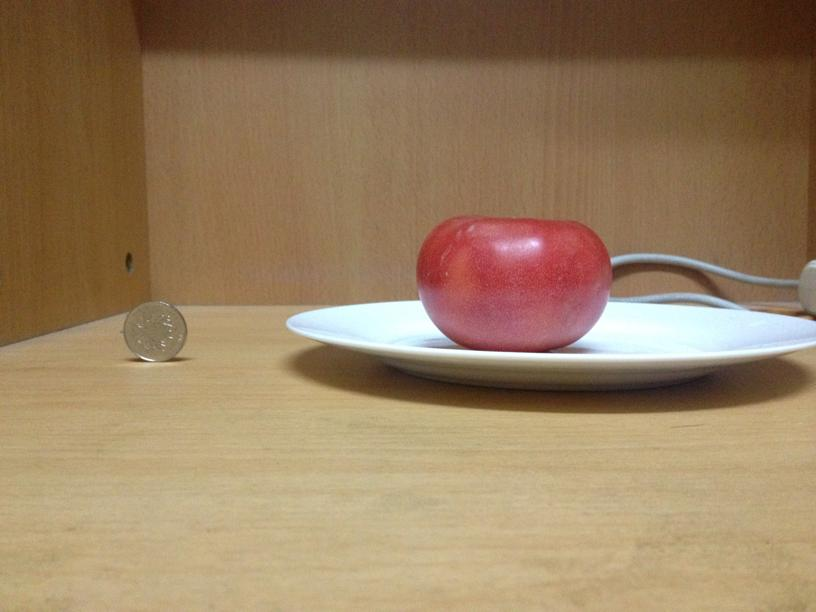coin: (117, 298, 190, 363)
tomato: (410, 212, 613, 352)
